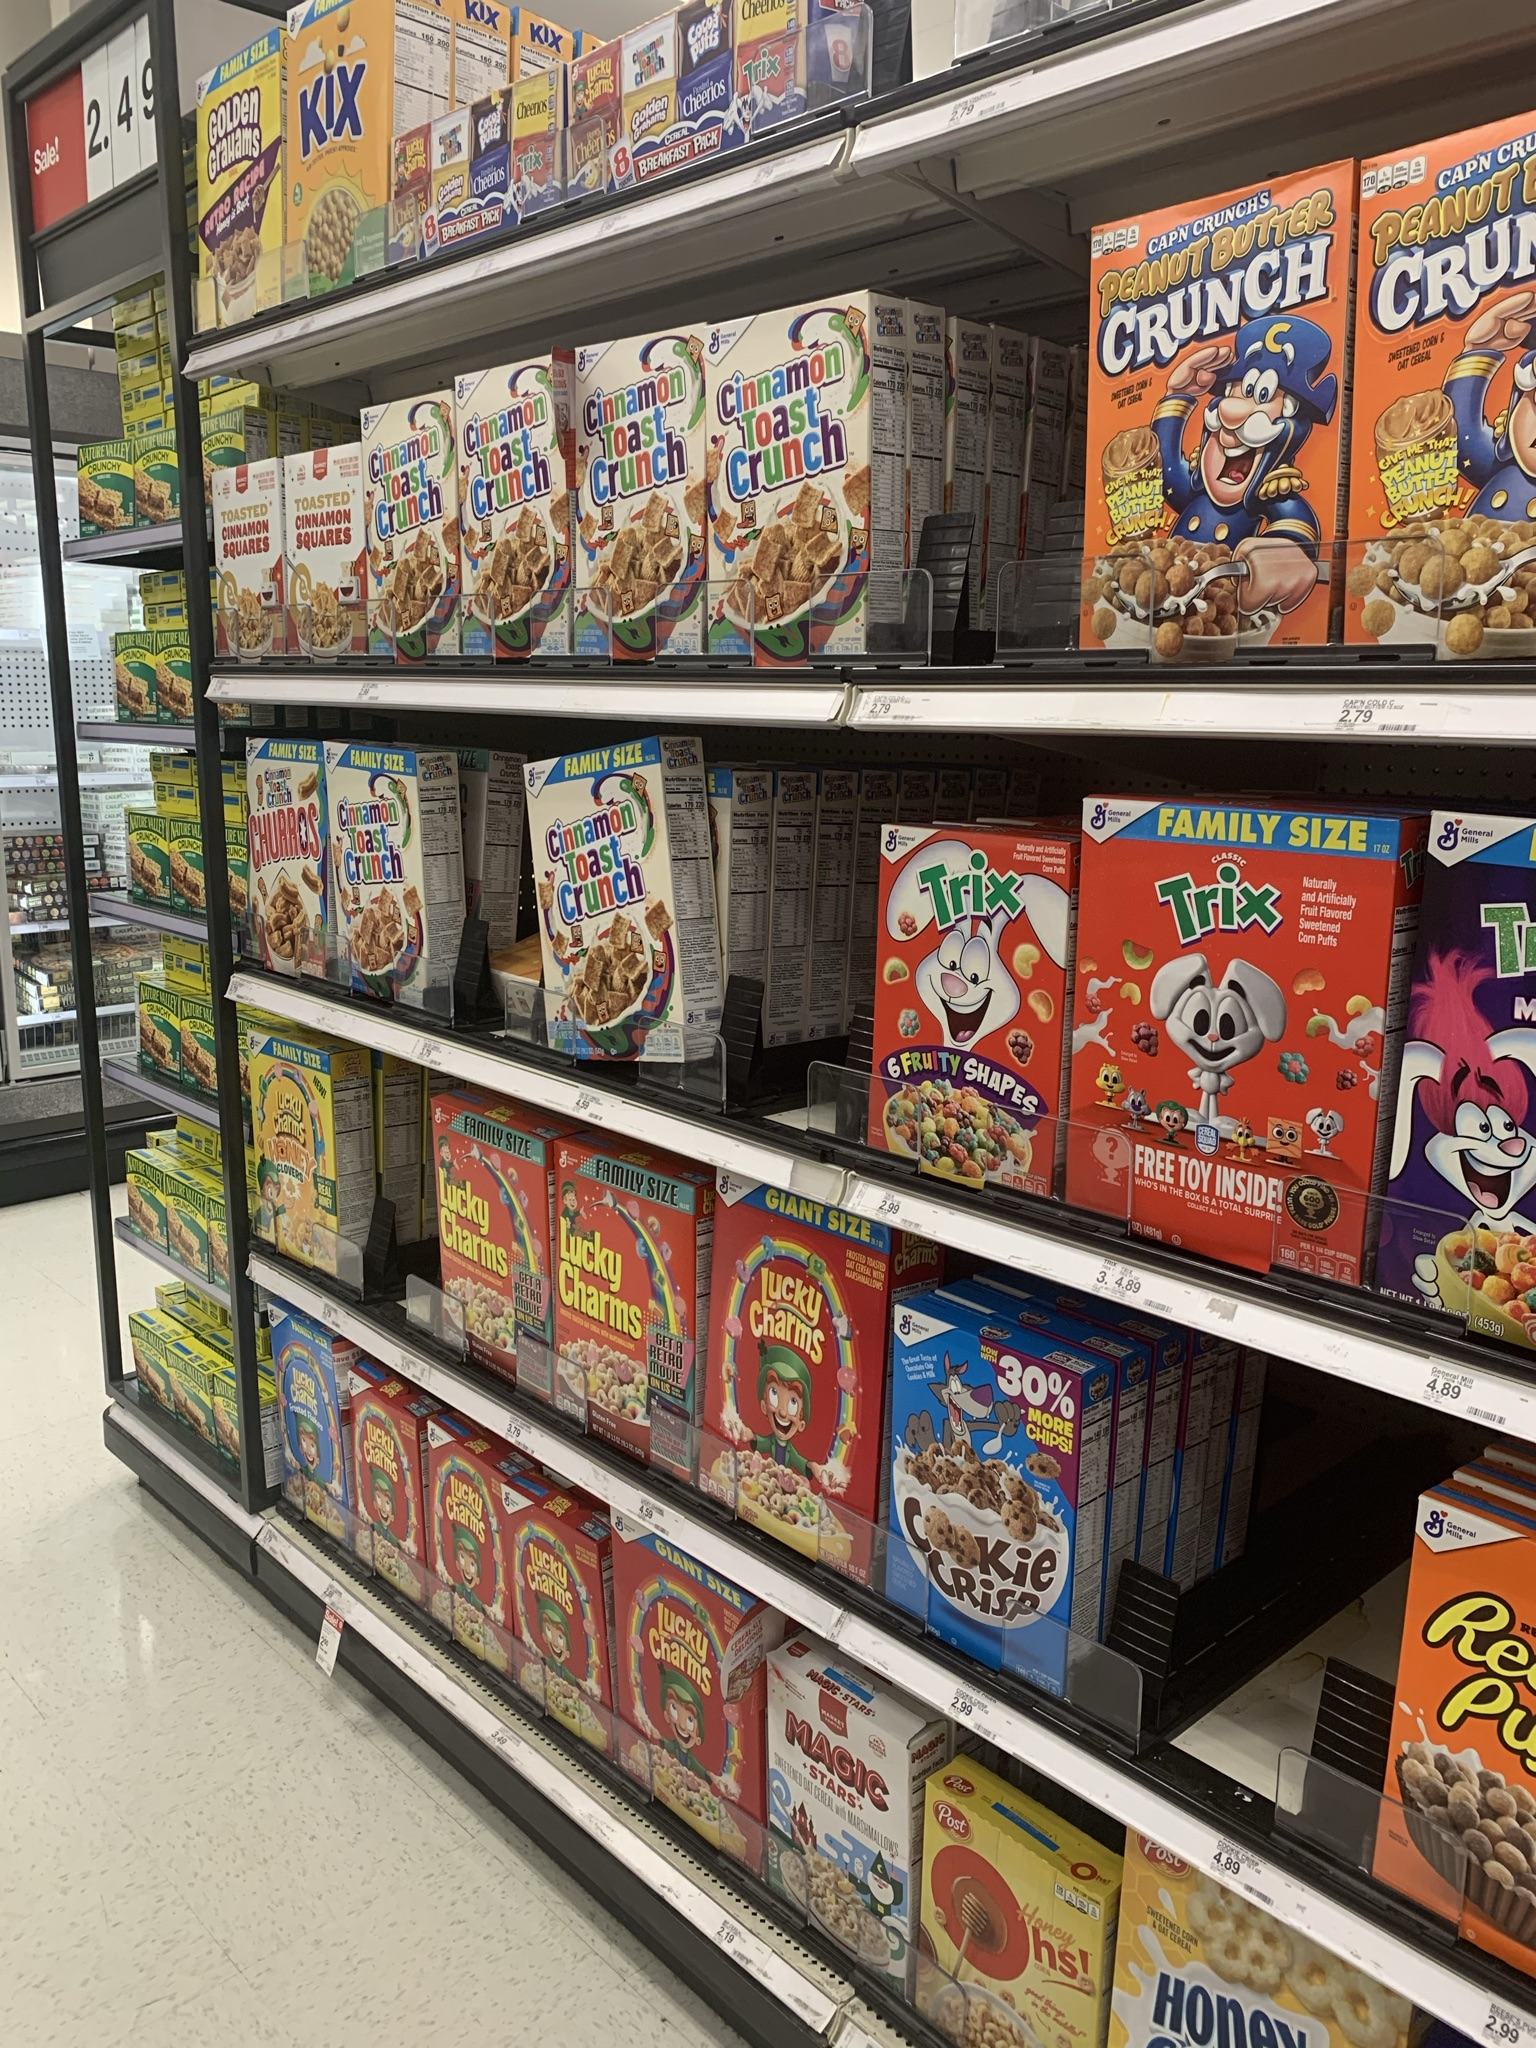cereal: (1076, 776, 1367, 1298), (1076, 219, 1331, 674), (1363, 155, 1536, 655), (686, 1161, 870, 1592), (1400, 798, 1536, 1353), (878, 1301, 1058, 1696), (1396, 1484, 1536, 1953), (884, 826, 1050, 1200), (708, 332, 876, 664), (608, 1542, 762, 1887), (516, 743, 676, 1072), (912, 1774, 1091, 2048), (549, 1142, 686, 1498), (582, 348, 718, 672), (758, 1664, 897, 1974), (487, 1487, 618, 1808), (424, 1084, 544, 1393), (457, 376, 565, 672), (318, 753, 432, 1026), (357, 406, 461, 668), (278, 26, 381, 287), (415, 1438, 516, 1700), (237, 1035, 344, 1279), (337, 1384, 432, 1614), (184, 81, 278, 313), (236, 735, 318, 989), (263, 1317, 349, 1543), (286, 461, 365, 660), (205, 477, 282, 672)
